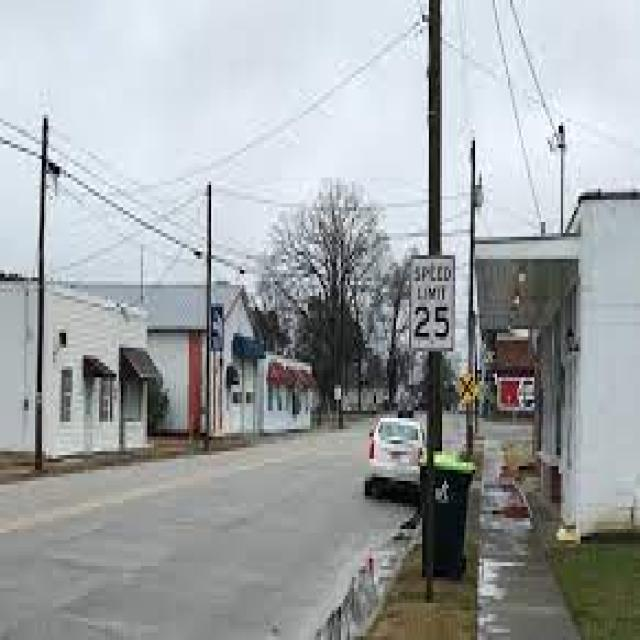speedLimit25: (407, 255, 456, 355)
